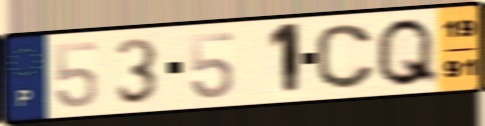1: (265, 20, 304, 99)
3: (113, 36, 162, 106)
5: (52, 38, 100, 110), (188, 29, 236, 100)
C: (312, 22, 379, 91)
Q: (373, 15, 443, 90)
